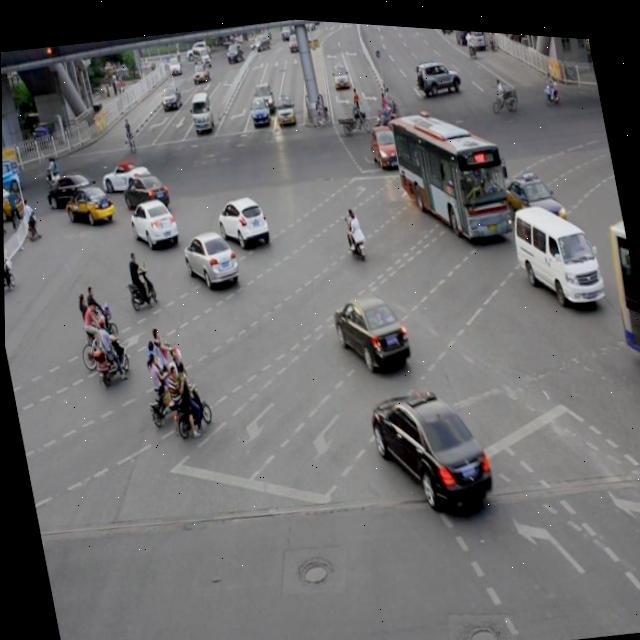car: (364, 371, 494, 514), (328, 281, 412, 374), (499, 158, 566, 227), (179, 220, 240, 288), (213, 188, 271, 248), (125, 190, 180, 249), (42, 164, 99, 211), (61, 177, 115, 226), (119, 164, 170, 213), (98, 152, 152, 195), (366, 115, 404, 166)
truck: (506, 187, 602, 303)
van: (387, 95, 512, 247), (601, 207, 640, 364)
